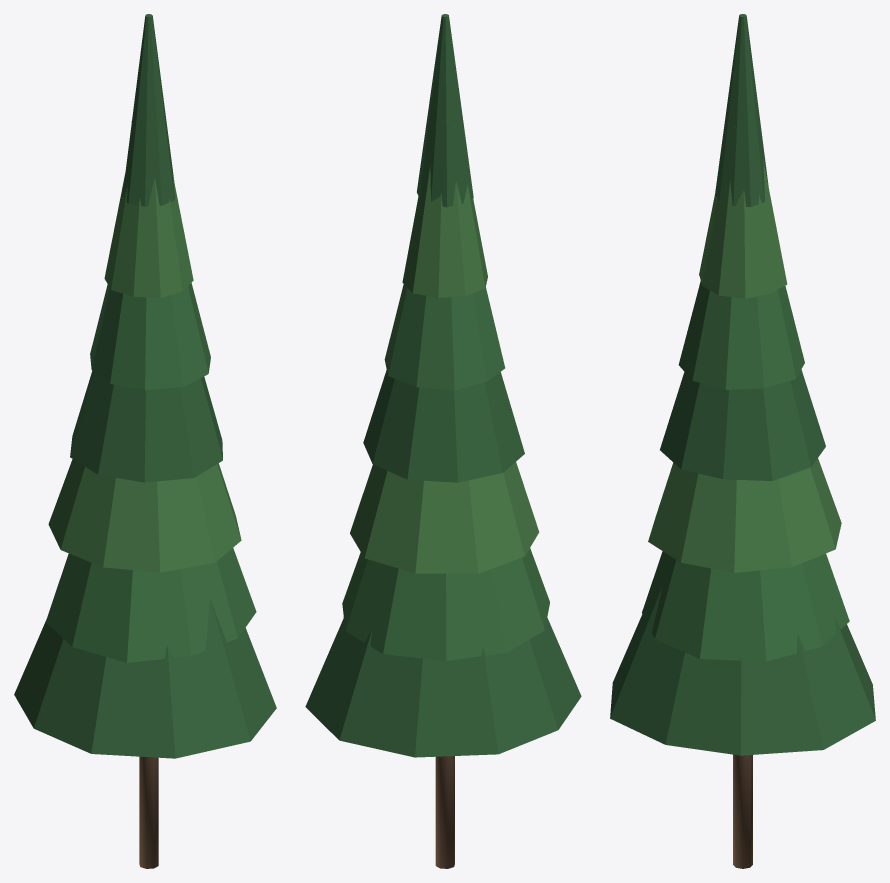
The model's file is pine_b.glb.
The picture shows the model from 3 angles, left to right: view 1: azimuth 30°, elevation 25°; view 2: azimuth 150°, elevation 25°; view 3: azimuth 270°, elevation 25°; orthographic projection.
Parts seen in each view (by area): view 1: pine_b; view 2: pine_b; view 3: pine_b.
Boxes of the visible parts, x1,y1,x2,y2 form: pine_b: (14, 14, 276, 868); pine_b: (305, 14, 581, 868); pine_b: (610, 14, 875, 868).
Bounding box in the file's own units: 3.61 × 13 × 3.69.
